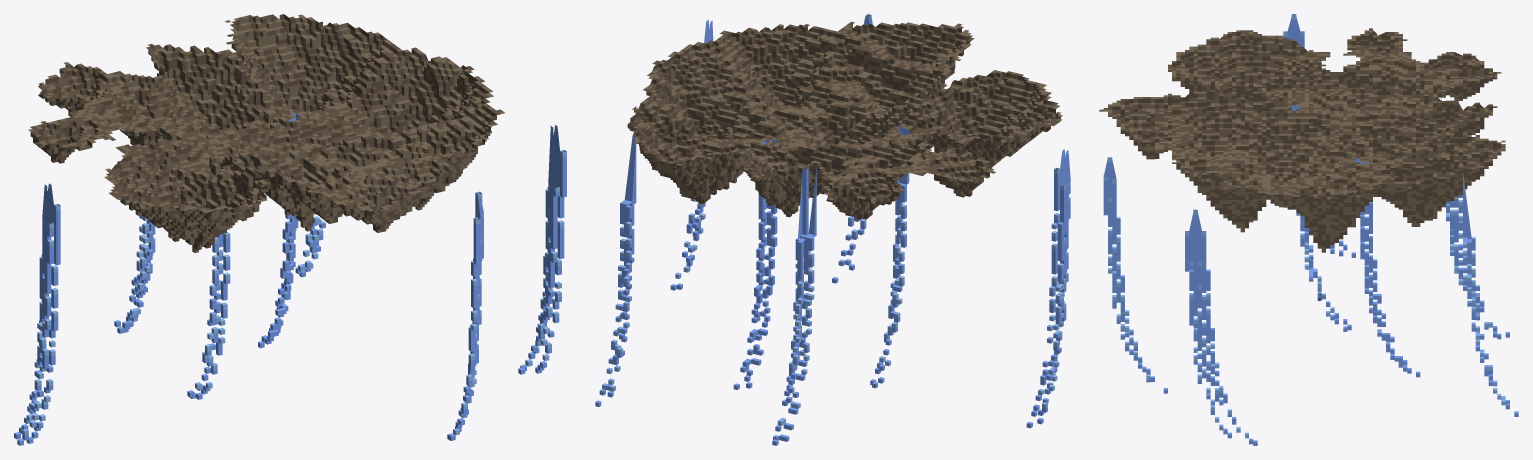
The model's file is voxelvillagemain1.fbx.
3 renders of one model, left to right at view 1: azimuth 30°, elevation 25°; view 2: azimuth 150°, elevation 25°; view 3: azimuth 270°, elevation 25°, orthographic. The views are drawn at different scales.
Parts seen in each view (by area): view 1: voxelvillagepuzzle; view 2: voxelvillagepuzzle; view 3: voxelvillagepuzzle.
Part boxes in pixels (x1,y1,x2,y2): voxelvillagepuzzle: (14, 14, 566, 445); voxelvillagepuzzle: (595, 14, 1070, 445); voxelvillagepuzzle: (1099, 14, 1518, 445).
Size of the model in its own units: 10600 by 6200 by 9800.
1 material, 1 textured.
